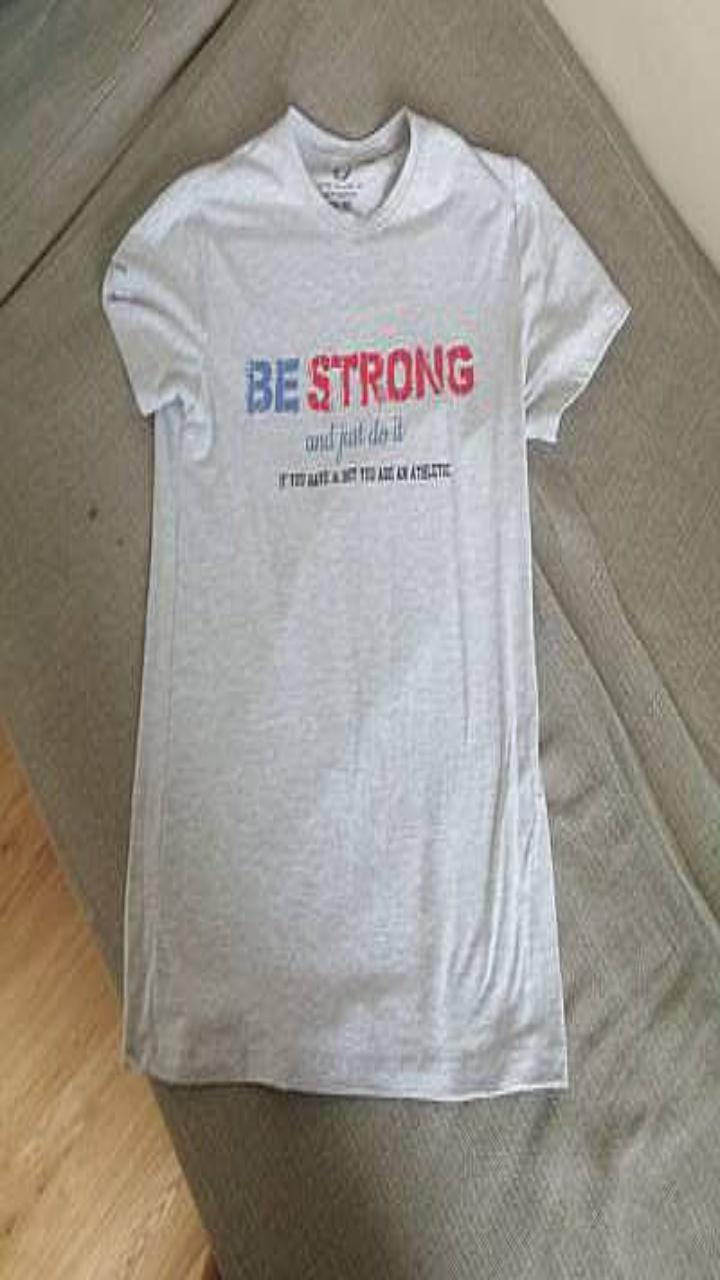T-Shirt: (102, 104, 629, 1100)
